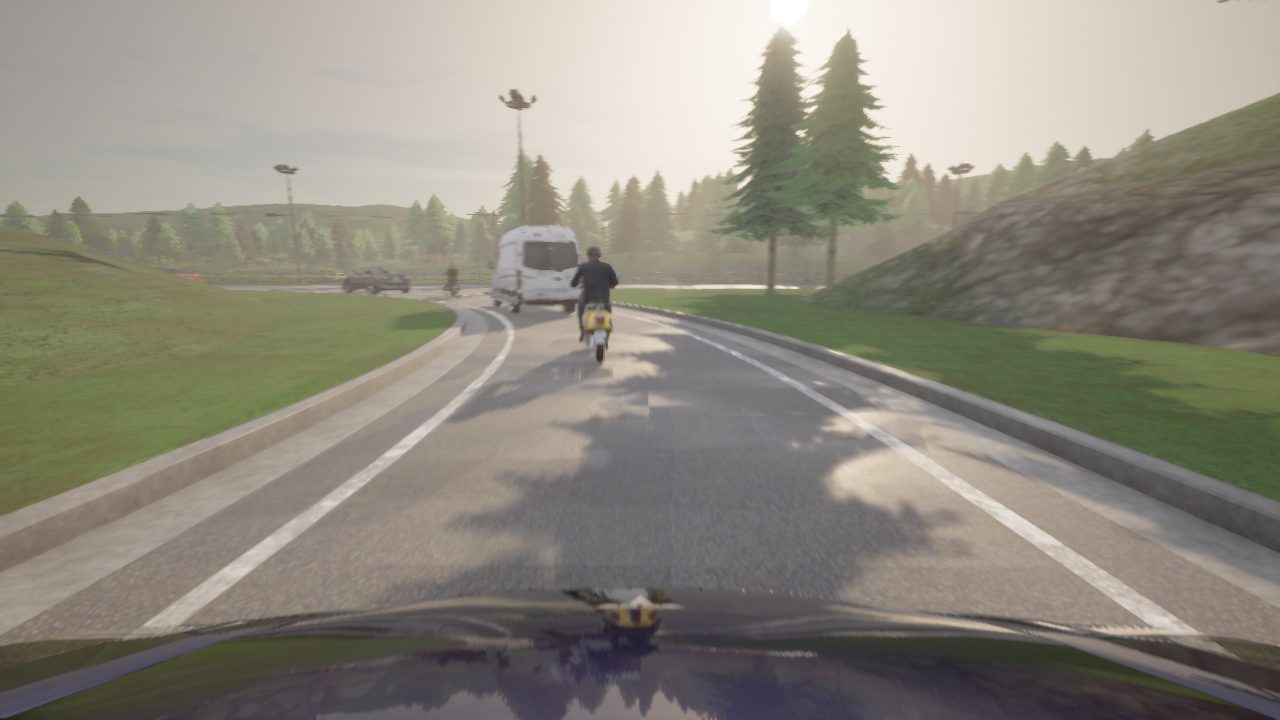cyclist: (0, 588, 1279, 719), (488, 225, 582, 313), (565, 271, 621, 362), (342, 266, 410, 294), (152, 266, 201, 281), (445, 276, 460, 297)
